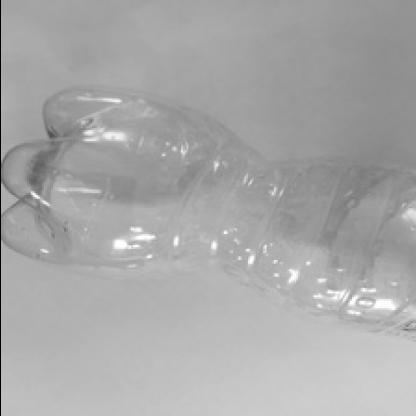plastic_bottles: (0, 79, 414, 345)
